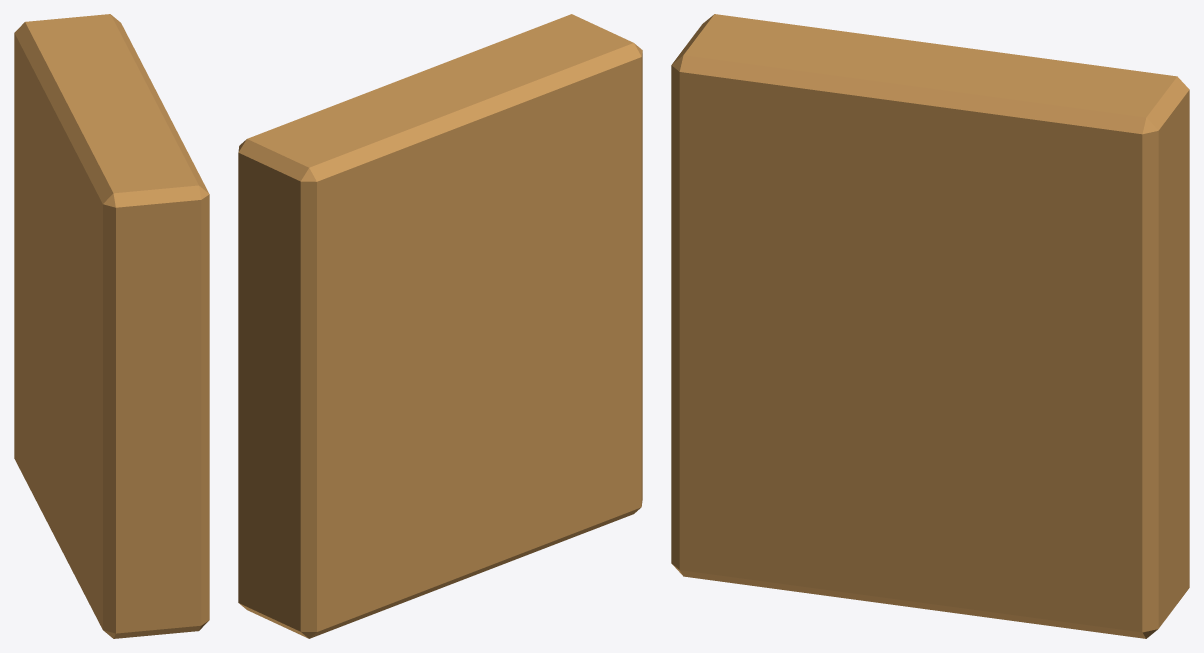
File: Sector3_Gold_1.fbx
3 views of the same model, side by side, from view 1: azimuth 30°, elevation 25°; view 2: azimuth 150°, elevation 25°; view 3: azimuth 270°, elevation 25° (orthographic). The views are drawn at different scales.
Parts seen in each view (by area): view 1: Sector3_Gold_1; view 2: Sector3_Gold_1; view 3: Sector3_Gold_1.
Boxes of the visible parts, left/top/right/bottom form: Sector3_Gold_1: left=14, top=14, right=209, bottom=638; Sector3_Gold_1: left=238, top=14, right=642, bottom=638; Sector3_Gold_1: left=671, top=14, right=1189, bottom=638.
Bounding box in the file's own units: 422 × 900 × 811.
